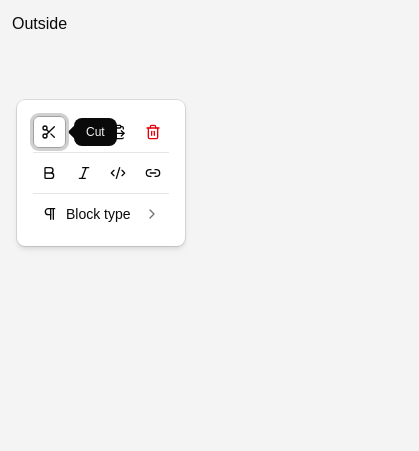
Test: editor-context-popup › toolbar semantics › closes only the submenu when Escape comes from inside it
Click the button "Block type" at [101, 214], box [33,198,169,230]
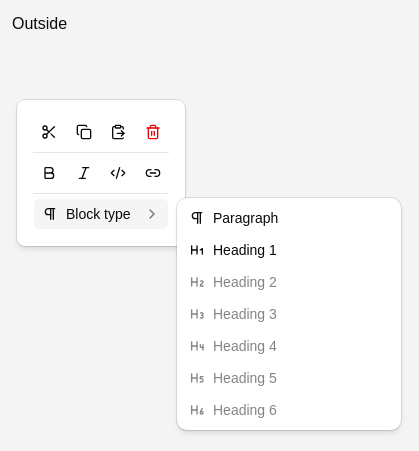
Result: the menu is shown at [177,198,401,430]
Press Escape
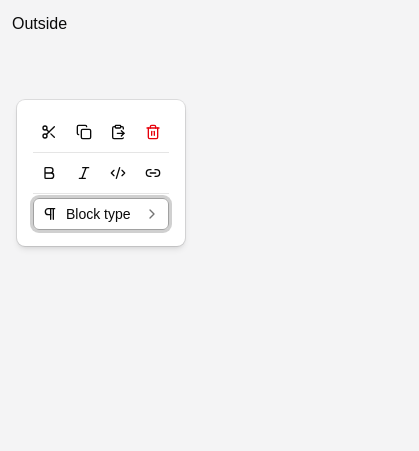
Expected: the element with test id "editor-context-popup" is shown, [17,100,185,246]
Result: the menu is gone
